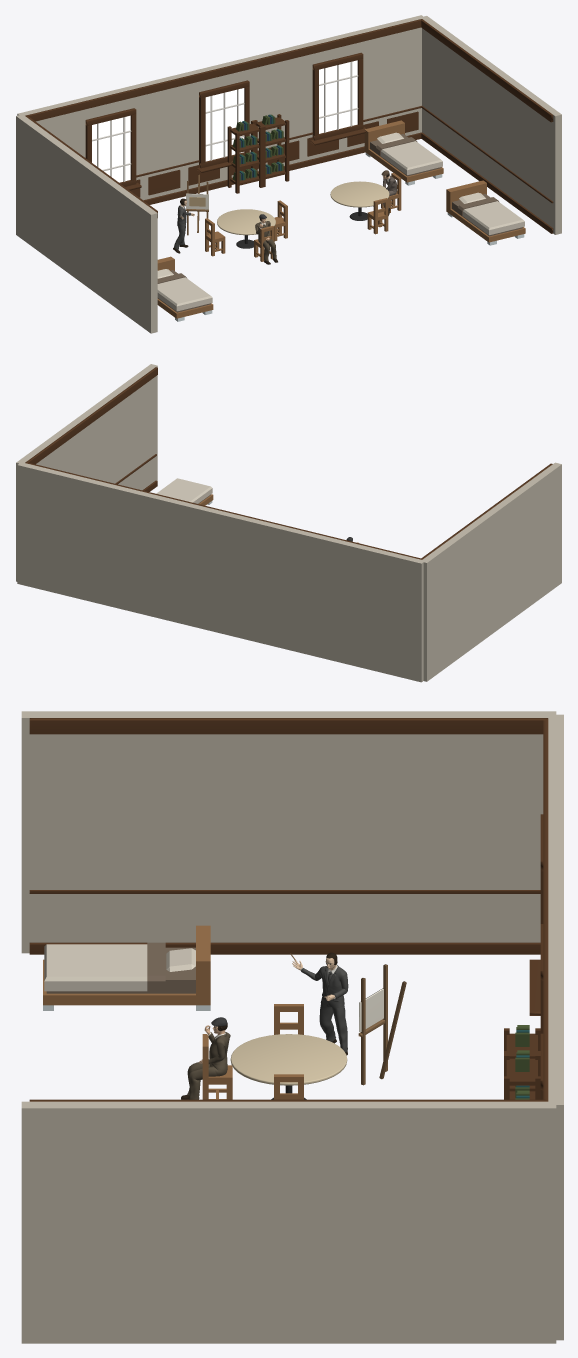
Rendered from hitler.glb.
The picture shows the model from 3 angles, top to bottom: view 1: azimuth 30°, elevation 25°; view 2: azimuth 150°, elevation 25°; view 3: azimuth 270°, elevation 25°; orthographic projection. The views are drawn at different scales.
Visible parts, largest first — view 1: wall_back, wall_left, wall_right, box.006, pane.002, pane.001, pane, cover.003, cover.001, cover.002, bookcaseOpen(Clone).001, bedSingle(Clone).003 (+21 smaller); view 2: wall_back, wall_left, wall_right, box.008, cover.003, box.006; view 3: wall_right, wall_left, box.007, wall_back, cover.002, box.001, cyl, bedSingle(Clone).002, box.006, box.004, hitler_Human.male_elegantsuit01, box.008 (+4 smaller).
Part boxes in pixels (box(x1,y1,x2,y2)): wall_back: box(17, 15, 424, 200); wall_left: box(16, 115, 157, 333); wall_right: box(421, 16, 561, 234); box.006: box(26, 19, 421, 121); pane.002: box(319, 60, 357, 133); pane.001: box(205, 88, 244, 161); pane: box(92, 115, 130, 182); cover.003: box(457, 197, 524, 235); cover.001: box(375, 137, 442, 175); cover.002: box(157, 273, 212, 311); bookcaseOpen(Clone).001: box(227, 120, 262, 193); bedSingle(Clone).003: box(446, 180, 525, 245); wall_back: box(17, 462, 425, 682); wall_left: box(421, 462, 561, 681); wall_right: box(16, 364, 157, 581); box.008: box(25, 367, 157, 464); cover.003: box(156, 478, 212, 503); box.006: box(25, 462, 421, 559); wall_right: box(21, 1101, 556, 1343); wall_left: box(21, 711, 556, 953); box.007: box(29, 718, 547, 734); wall_back: box(548, 714, 563, 1340); cover.002: box(44, 942, 165, 991); box.001: box(29, 942, 540, 954); cyl: box(230, 1034, 347, 1085); bedSingle(Clone).002: box(43, 925, 210, 1010); box.006: box(543, 718, 548, 1101); box.004: box(29, 890, 540, 893); hitler_Human.male_elegantsuit01: box(300, 964, 348, 1052); box.008: box(29, 1099, 547, 1101).
Size of what is drawn, in the model's own units: 14.48 by 4.04 by 8.48.
